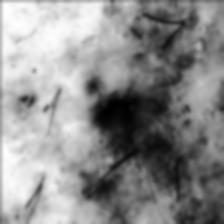Potentially Malignant Skin Tumors: (80, 66, 138, 140)
